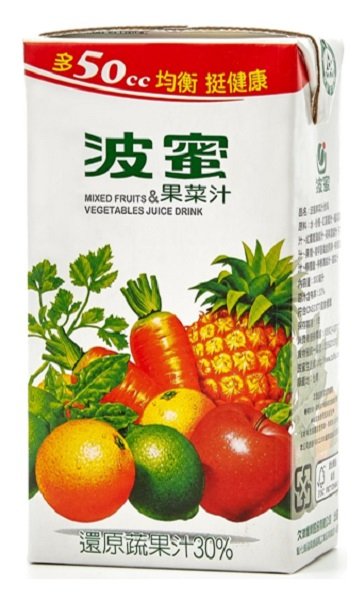vegetables juice: (12, 18, 354, 583)
